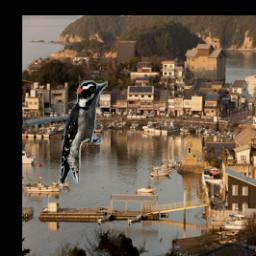Woodpecker: (60, 80, 108, 183)
